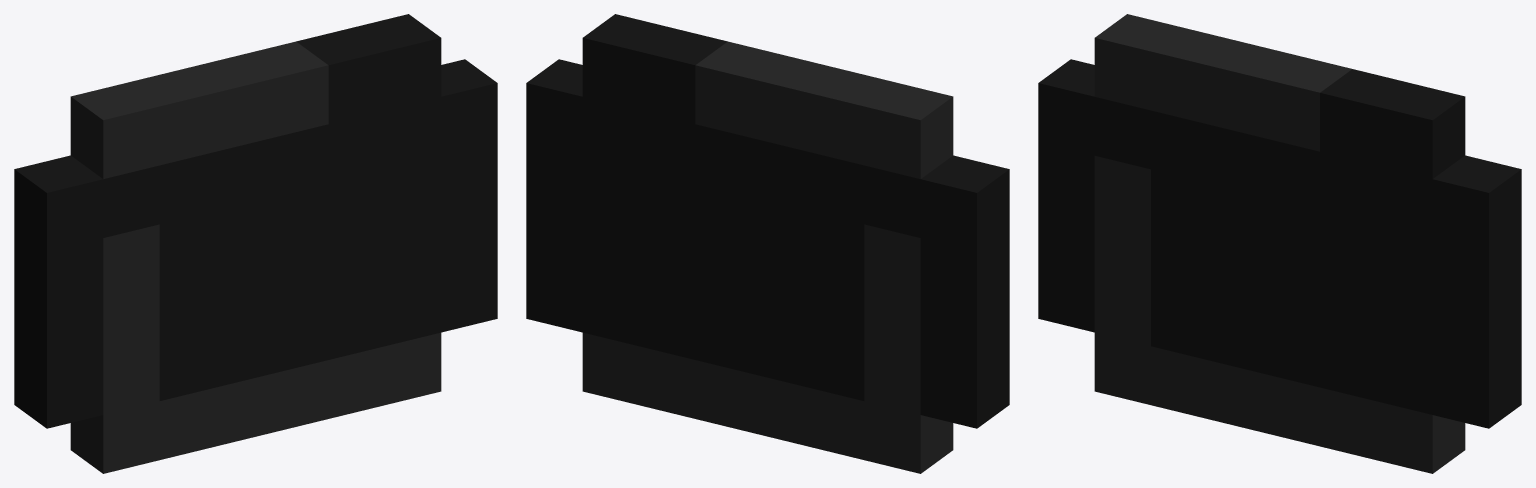
File: talaspa8.obj
The picture shows the model from 3 angles, left to right: view 1: azimuth 30°, elevation 25°; view 2: azimuth 150°, elevation 25°; view 3: azimuth 330°, elevation 25°; orthographic projection.
Visible parts, largest first — view 1: taladro8.001; view 2: taladro8.001; view 3: taladro8.001.
Boxes of the visible parts, x1,y1,x2,y2 form: taladro8.001: (14, 14, 497, 473); taladro8.001: (526, 14, 1009, 473); taladro8.001: (1038, 14, 1521, 473).
Bounding box in the file's own units: 0.8 × 0.6 × 0.1.
